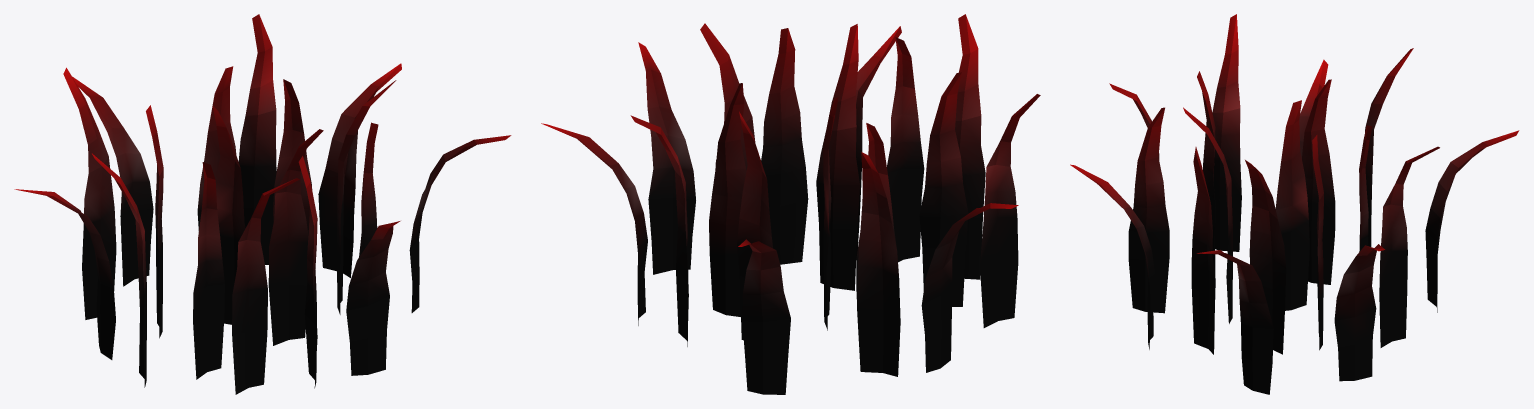
File: cannabis.fbx
The picture shows the model from 3 angles, left to right: view 1: azimuth 30°, elevation 25°; view 2: azimuth 150°, elevation 25°; view 3: azimuth 270°, elevation 25°; orthographic projection. The views are drawn at different scales.
Parts seen in each view (by area): view 1: Plane.003; view 2: Plane.003; view 3: Plane.003.
Part boxes in pixels (box(x1,y1,x2,y2)): Plane.003: box(14, 14, 511, 394); Plane.003: box(541, 14, 1040, 394); Plane.003: box(1070, 14, 1519, 394).
Bounding box in the file's own units: 231 × 125 × 227.
